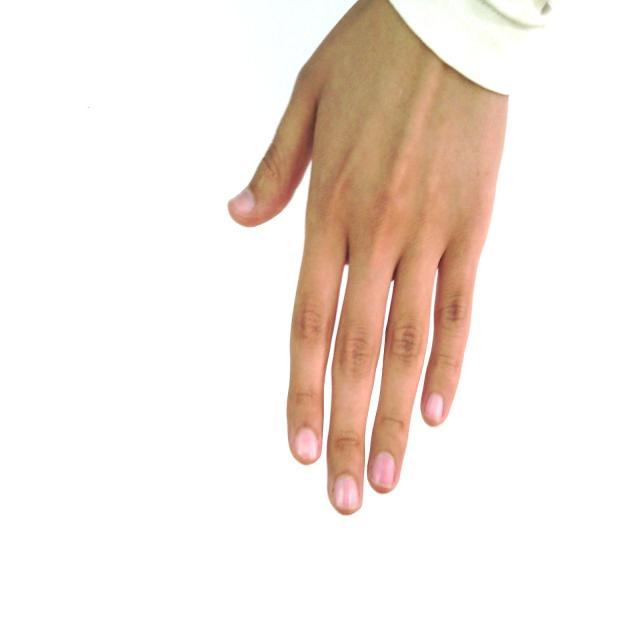Fingernail: (334, 474, 360, 509), (372, 452, 395, 488), (296, 428, 317, 459), (231, 189, 255, 216), (425, 393, 443, 419)
